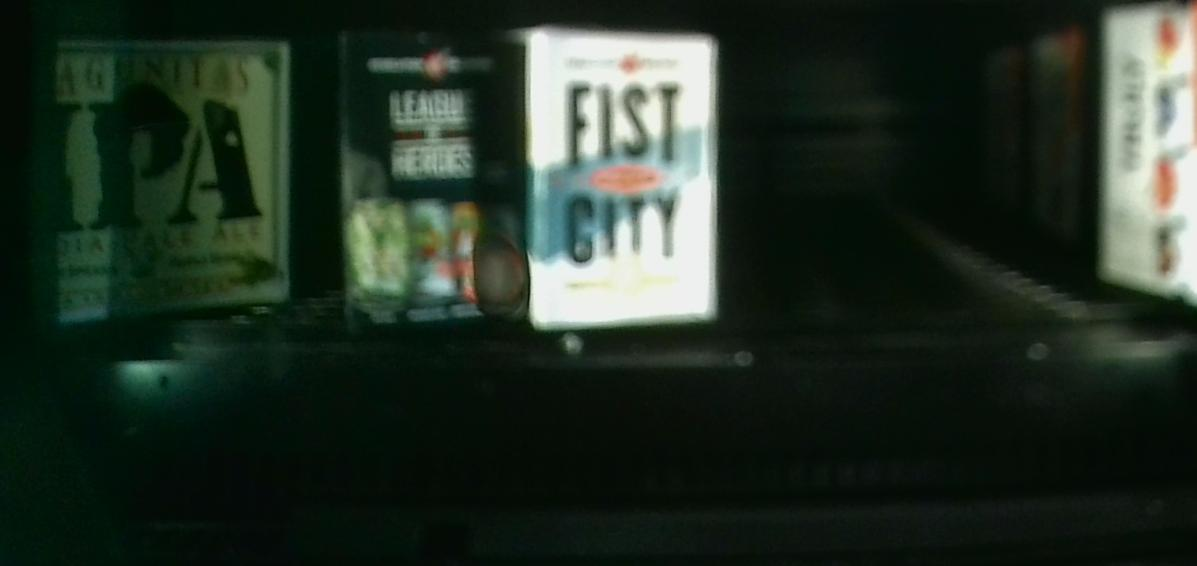bottle: (42, 41, 288, 313), (530, 26, 719, 322), (337, 34, 526, 325)
